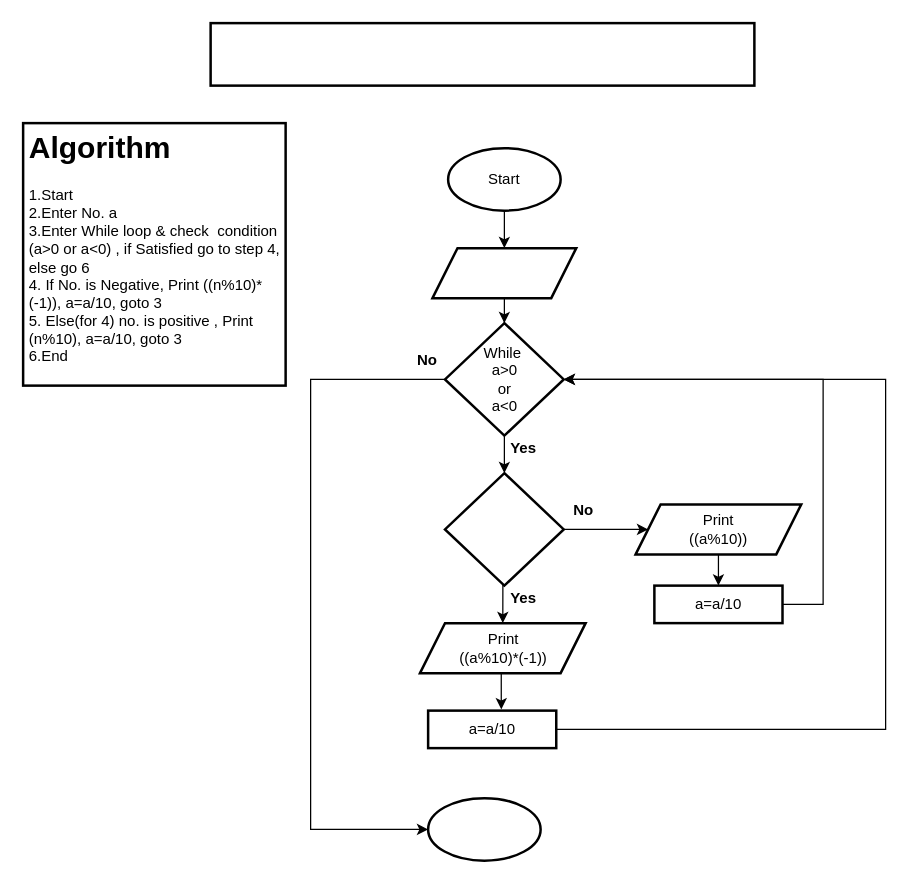
This 918x883 diagram has some shape labels left out. Each missing label, with the centre of its shape:
"End" belongs at (483,828).
"Enter a" belongs at (504,272).
"If a<0" belongs at (503,528).
"Print Digits Of Given No." belongs at (482,53).
